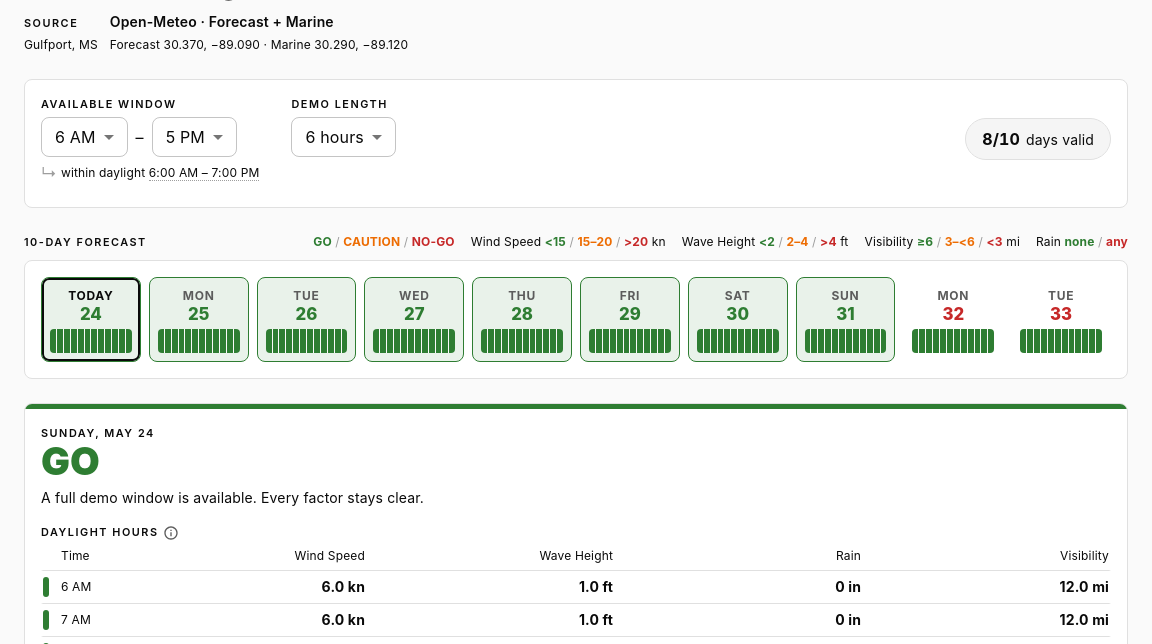
Test case: pin a demo window › clamps at dawn and dusk so every row maps to a valid window
Dawn: 6 AM hover clamps up to the earliest window (6 AM–11 AM).
Click the button with aria-label "pin a demo window around 6 AM" at (576, 586), box [41,570,1111,603]
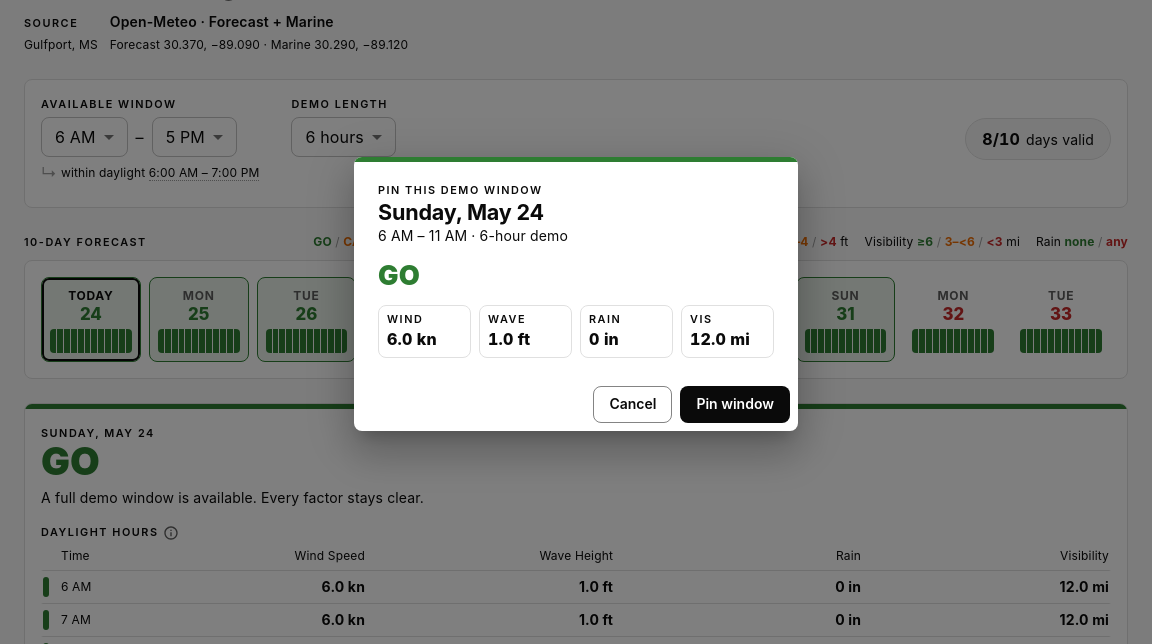
Expected: the text "6 AM – 11 AM · 6-hour demo" is shown, [378,227,568,244]
Click the button "Cancel" at (633, 404), box [593,386,672,423]
(page scrolled)
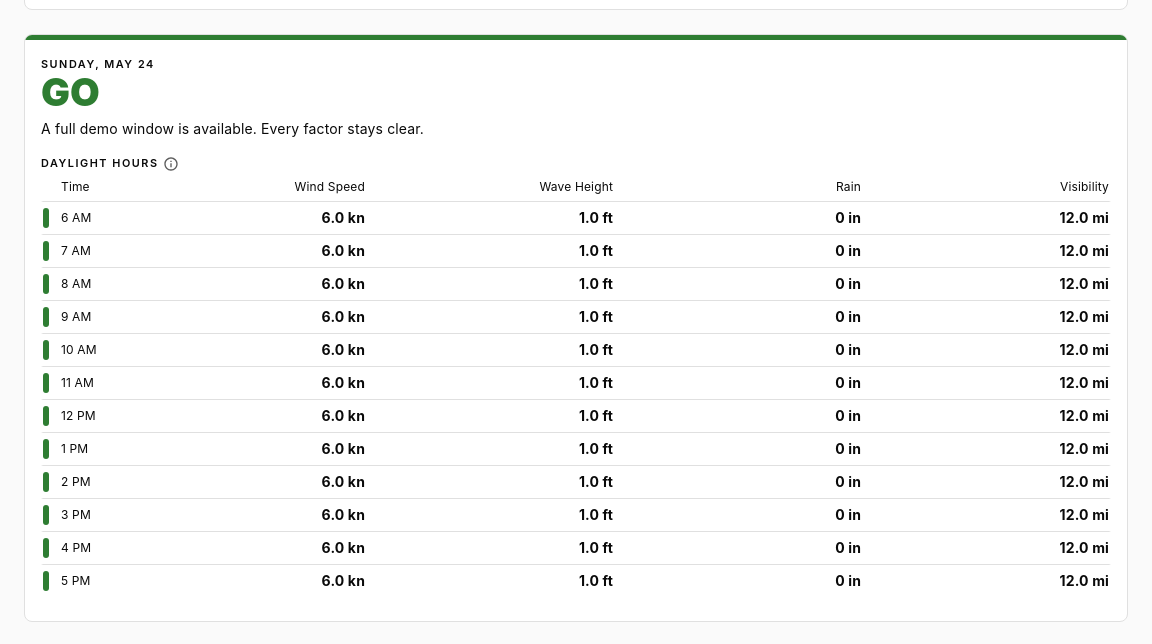
Dusk: 5 PM hover clamps down to the latest window (12 PM–5 PM).
Click the button with aria-label "pin a demo window around 5 PM" at (576, 580), box [41,564,1111,597]
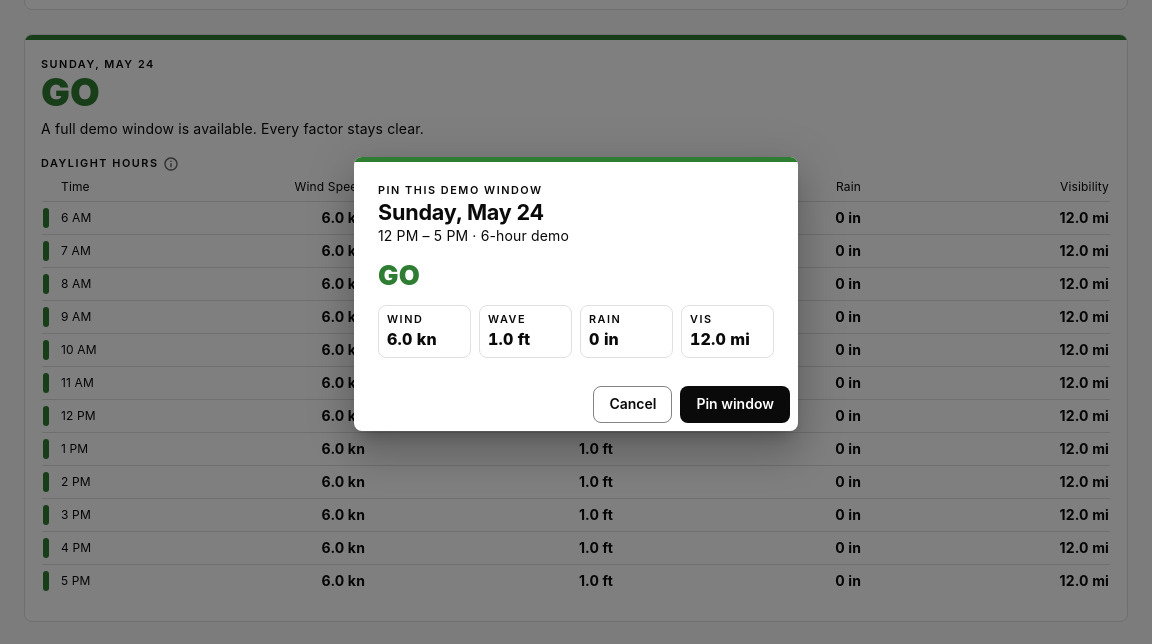
Expected: the text "12 PM – 5 PM · 6-hour demo" is shown, [378,227,569,244]
